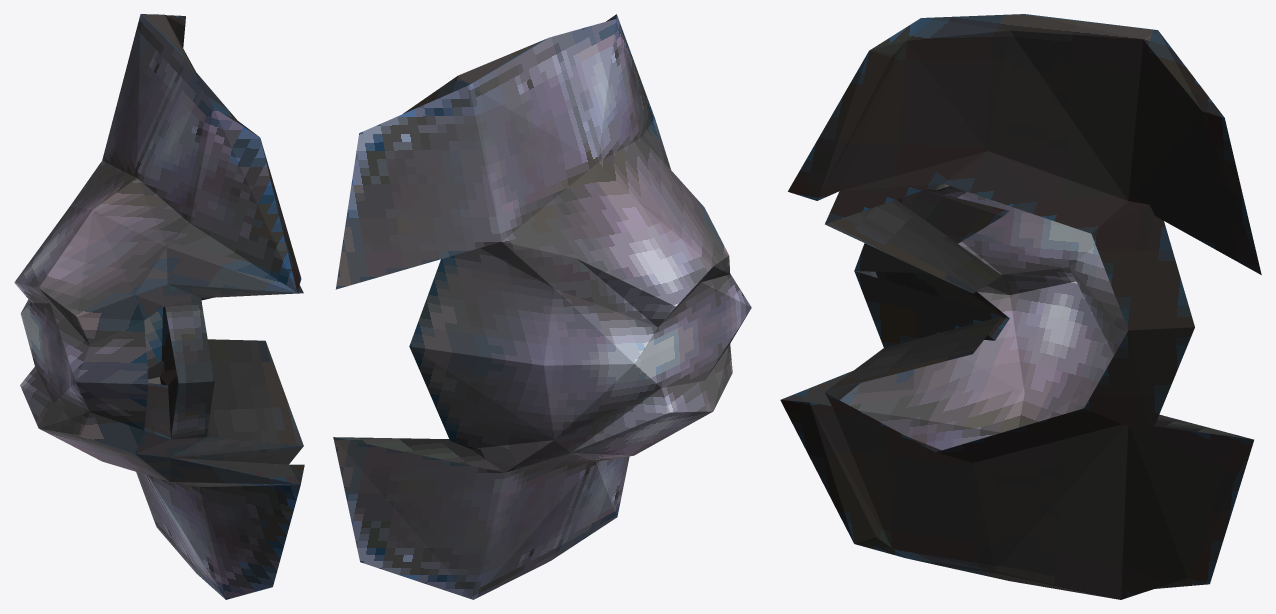
The model's file is UANTIARMHELM_H.obj.
3 renders of one model, left to right at view 1: azimuth 30°, elevation 25°; view 2: azimuth 150°, elevation 25°; view 3: azimuth 270°, elevation 25°, orthographic. The views are drawn at different scales.
Parts seen in each view (by area): view 1: Node 0; view 2: Node 0; view 3: Node 0.
Boxes of the visible parts, left/top/right/bottom form: Node 0: left=14, top=14, right=304, bottom=599; Node 0: left=333, top=14, right=751, bottom=599; Node 0: left=780, top=14, right=1261, bottom=599.
Size of the model in its own units: 0.44 by 0.84 by 0.65.
Materials: 1 (1 with a texture image).
